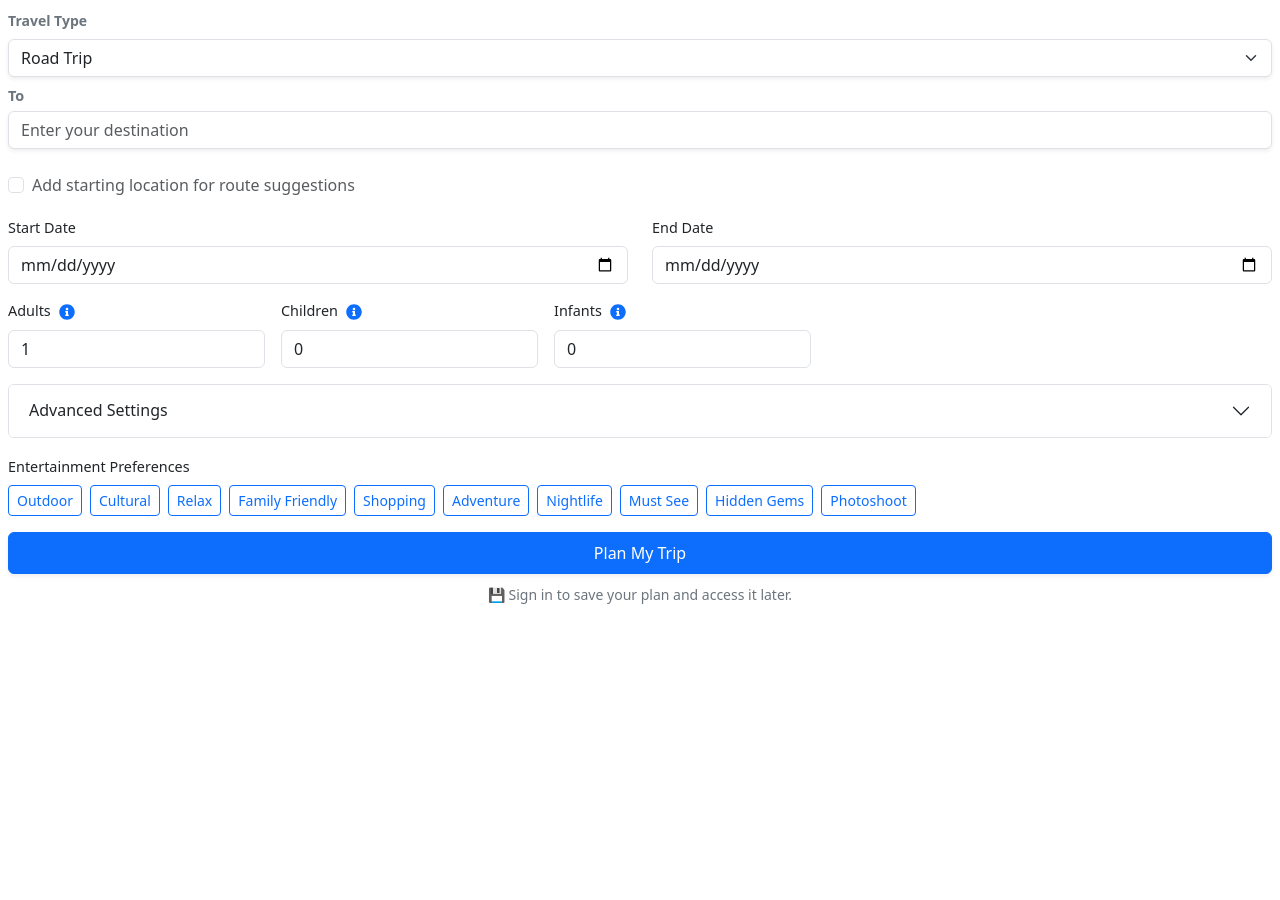
Test: TripForm Photoshoot Feature › shows photoshoot mode dropdown when photoshoot preference is selected
expect the text "📸 Photoshoot Mode" is not shown: met
// Click on photoshoot preference
Click the button "photoshoot" at (869, 501), box [821,485,916,516]
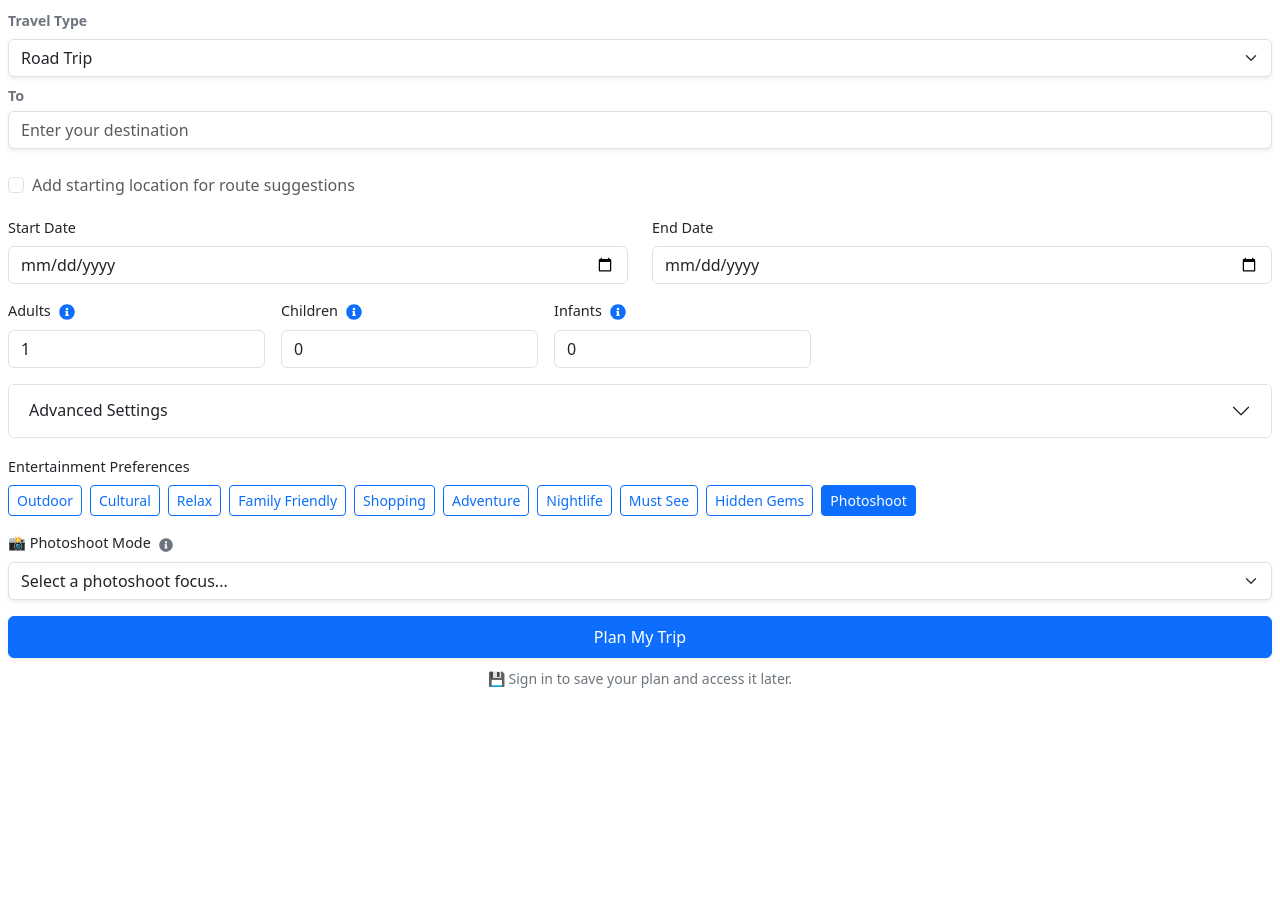
expect the text "📸 Photoshoot Mode" is shown: met, box [8,533,173,552]
